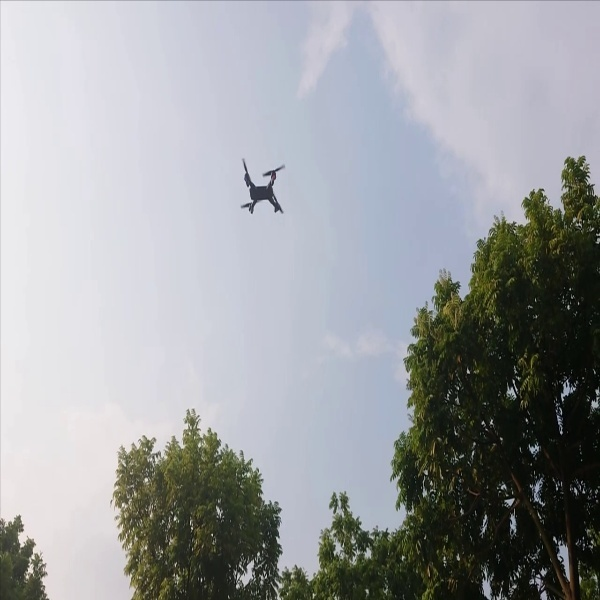drone: (227, 154, 292, 220)
